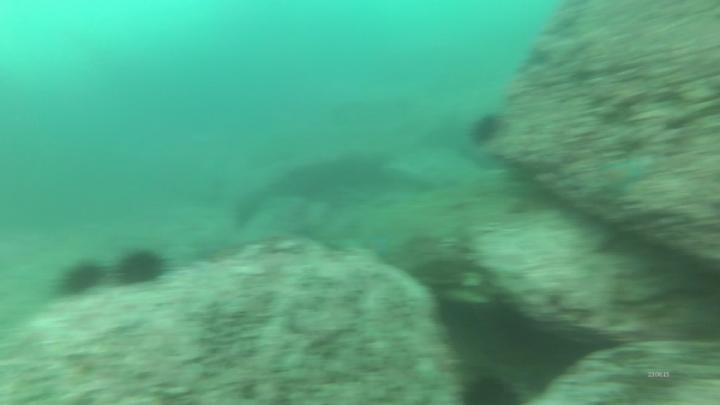starfish: (457, 370, 528, 405), (116, 248, 162, 287), (468, 110, 505, 148), (65, 260, 102, 294)
